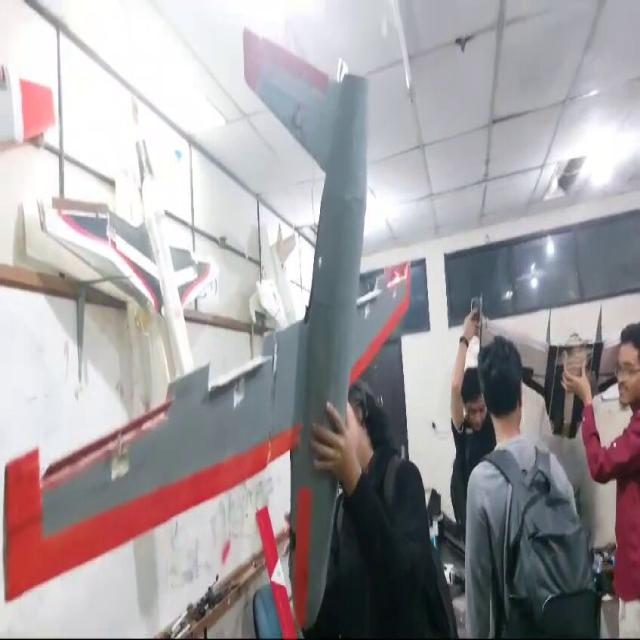plane: (2, 24, 414, 637)
